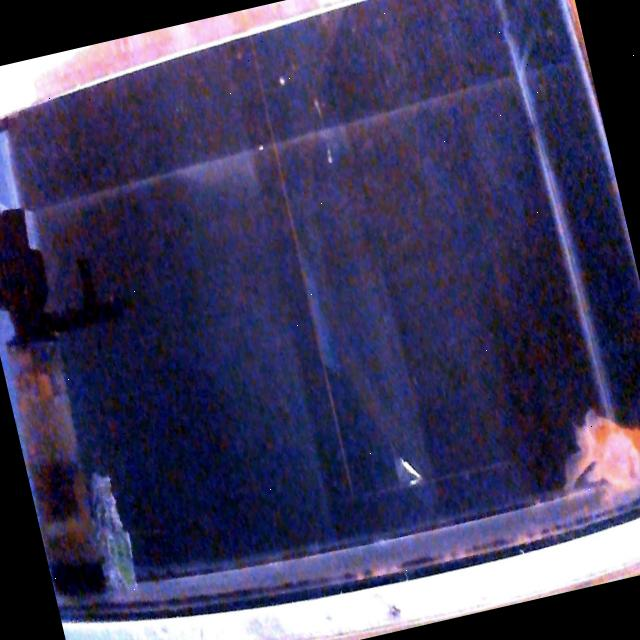fish: (549, 397, 640, 503)
